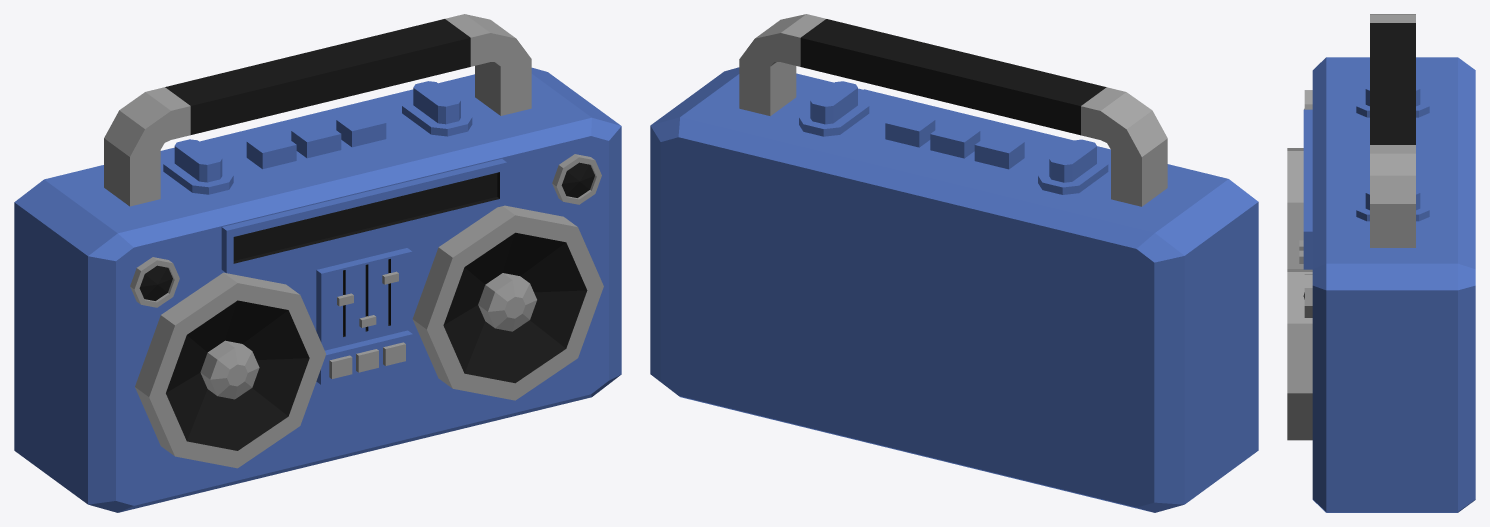
File: boombox.fbx
3 views of the same model, side by side, from view 1: azimuth 30°, elevation 25°; view 2: azimuth 150°, elevation 25°; view 3: azimuth 270°, elevation 25° (orthographic). The views are drawn at different scales.
Parts seen in each view (by area): view 1: boombox; view 2: boombox; view 3: boombox.
Part boxes in pixels (x1,y1,x2,y2): boombox: (14,14,621,512); boombox: (650,14,1258,512); boombox: (1287,14,1475,512).
Bounding box in the file's own units: 42.18 × 27.59 × 14.47.
